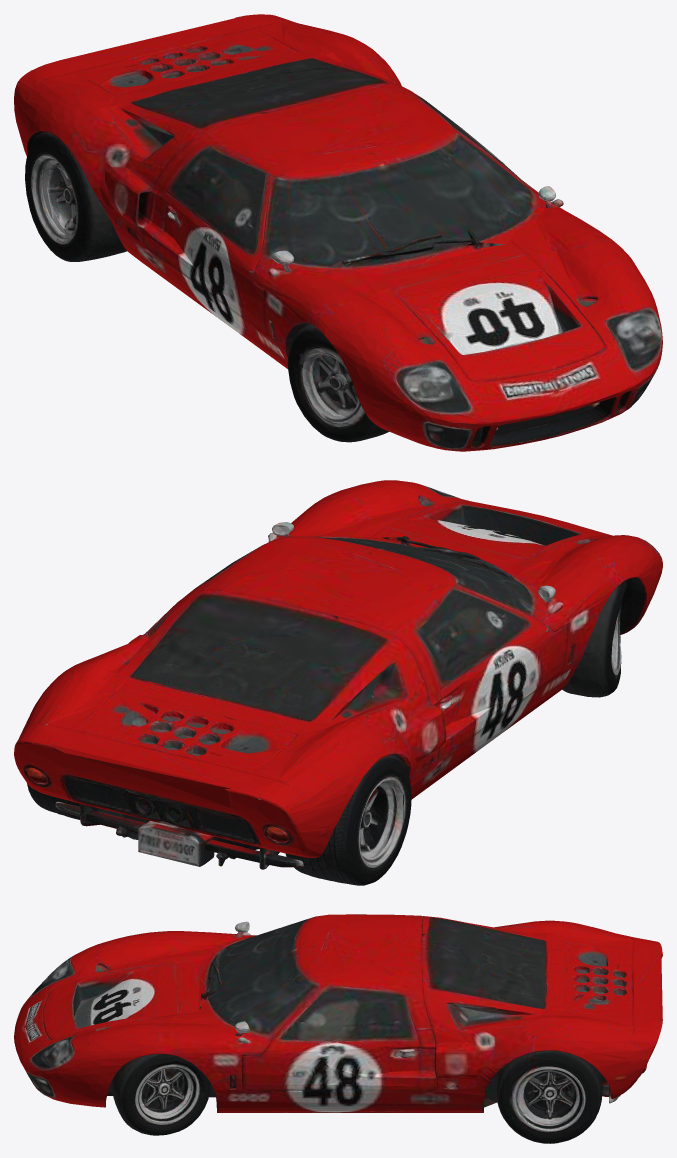
The picture shows the model from 3 angles, top to bottom: view 1: azimuth 30°, elevation 25°; view 2: azimuth 150°, elevation 25°; view 3: azimuth 270°, elevation 25°; orthographic projection. The views are drawn at different scales.
Visible parts, largest first — view 1: body, wheel_RR_mesh, wheel_FR_mesh; view 2: body, wheel_RR_mesh, wheel_FR_mesh, wheel_RL_mesh; view 3: body, wheel_RL_mesh, wheel_FL_mesh.
Part boxes in pixels (<box>): body: <box>14,14,662,451</box>; wheel_RR_mesh: <box>25,130,126,261</box>; wheel_FR_mesh: <box>288,321,388,442</box>; body: <box>14,480,662,869</box>; wheel_RR_mesh: <box>266,753,411,885</box>; wheel_FR_mesh: <box>562,576,643,697</box>; wheel_RL_mesh: <box>27,783,117,819</box>; body: <box>14,914,662,1112</box>; wheel_RL_mesh: <box>496,1050,602,1143</box>; wheel_FL_mesh: <box>111,1053,210,1135</box>.
Size of the model in its own units: 1.95 by 1.03 by 4.31.
8 materials, 8 textured.
